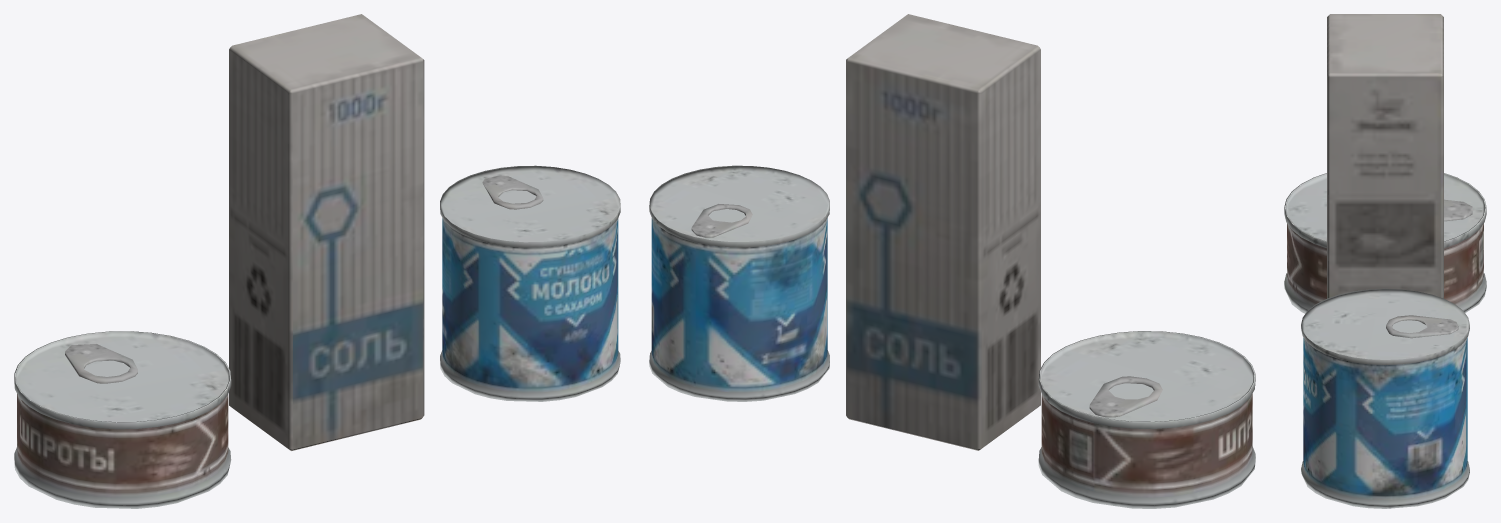
Rendered from russian_food_cans_01.glb.
The picture shows the model from 3 angles, left to right: view 1: azimuth 30°, elevation 25°; view 2: azimuth 150°, elevation 25°; view 3: azimuth 270°, elevation 25°; orthographic projection. The views are drawn at different scales.
Visible parts, largest first — view 1: russian_food_cans_01_salt_box; view 2: russian_food_cans_01_salt_box; view 3: russian_food_cans_01_salt_box.
Boxes of the visible parts, <box> form: russian_food_cans_01_salt_box: <box>14,14,620,508</box>; russian_food_cans_01_salt_box: <box>649,14,1255,508</box>; russian_food_cans_01_salt_box: <box>1284,14,1486,508</box>.
Bounding box in the file's own units: 0.1424 × 0.0849 × 0.0462.
Materials: 1 (1 with a texture image).
